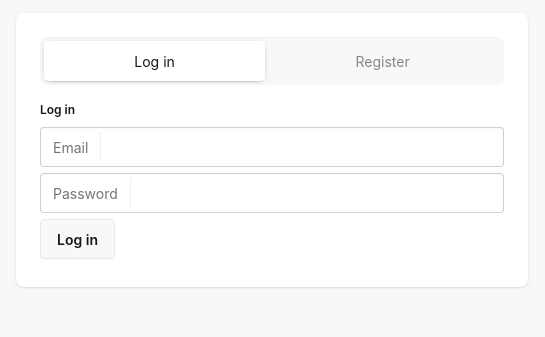
Test: a 401 from GET /me after login stores no token
This screenshot has width=545, height=337.
Expected: the button "Log in" is shown, [40, 219, 115, 259]
Type "ada@example.com" into the field labelled "Email" at (306, 147), box [121, 128, 491, 166]
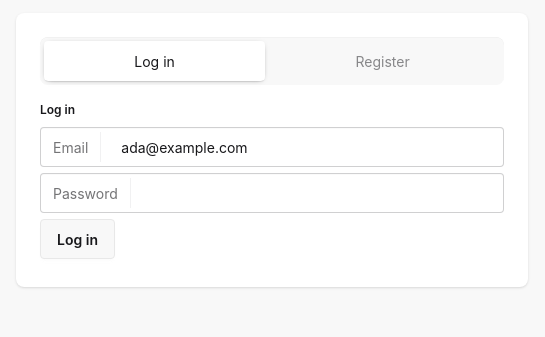
Type "s3cret" into the password field labelled "Password" at (321, 193), box [151, 174, 491, 212]
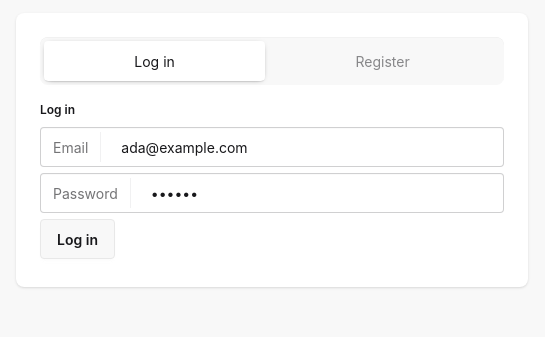
Click the button "Log in" at (78, 239), box [40, 219, 115, 259]
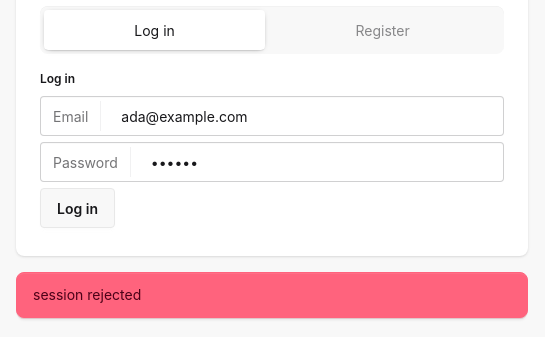
Expected: the button "Log in" is shown, [40, 188, 115, 228]
Result: the text "session rejected" is shown at [16, 272, 528, 318]
